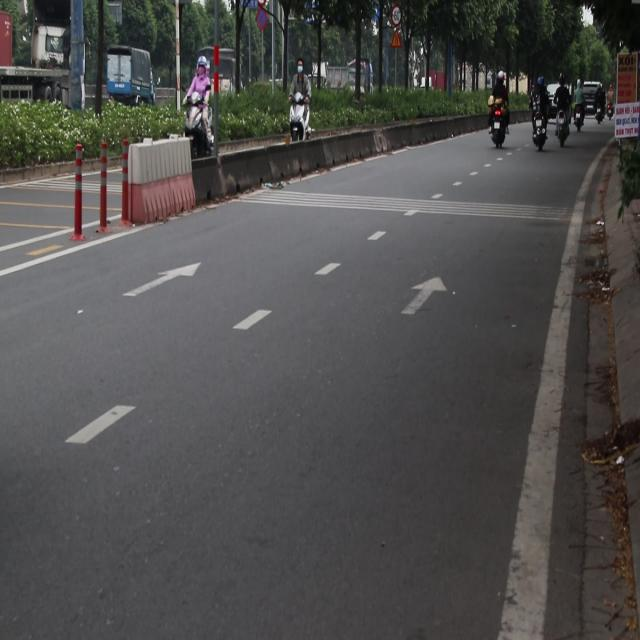car: (542, 74, 564, 116)
motorbike: (168, 95, 220, 174), (286, 102, 316, 154), (490, 99, 511, 149), (533, 114, 548, 152), (553, 112, 569, 147), (574, 98, 588, 130), (594, 106, 604, 131)
truck: (0, 0, 86, 122), (107, 46, 156, 106)
